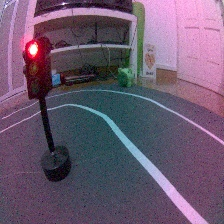red: (23, 37, 73, 184)
